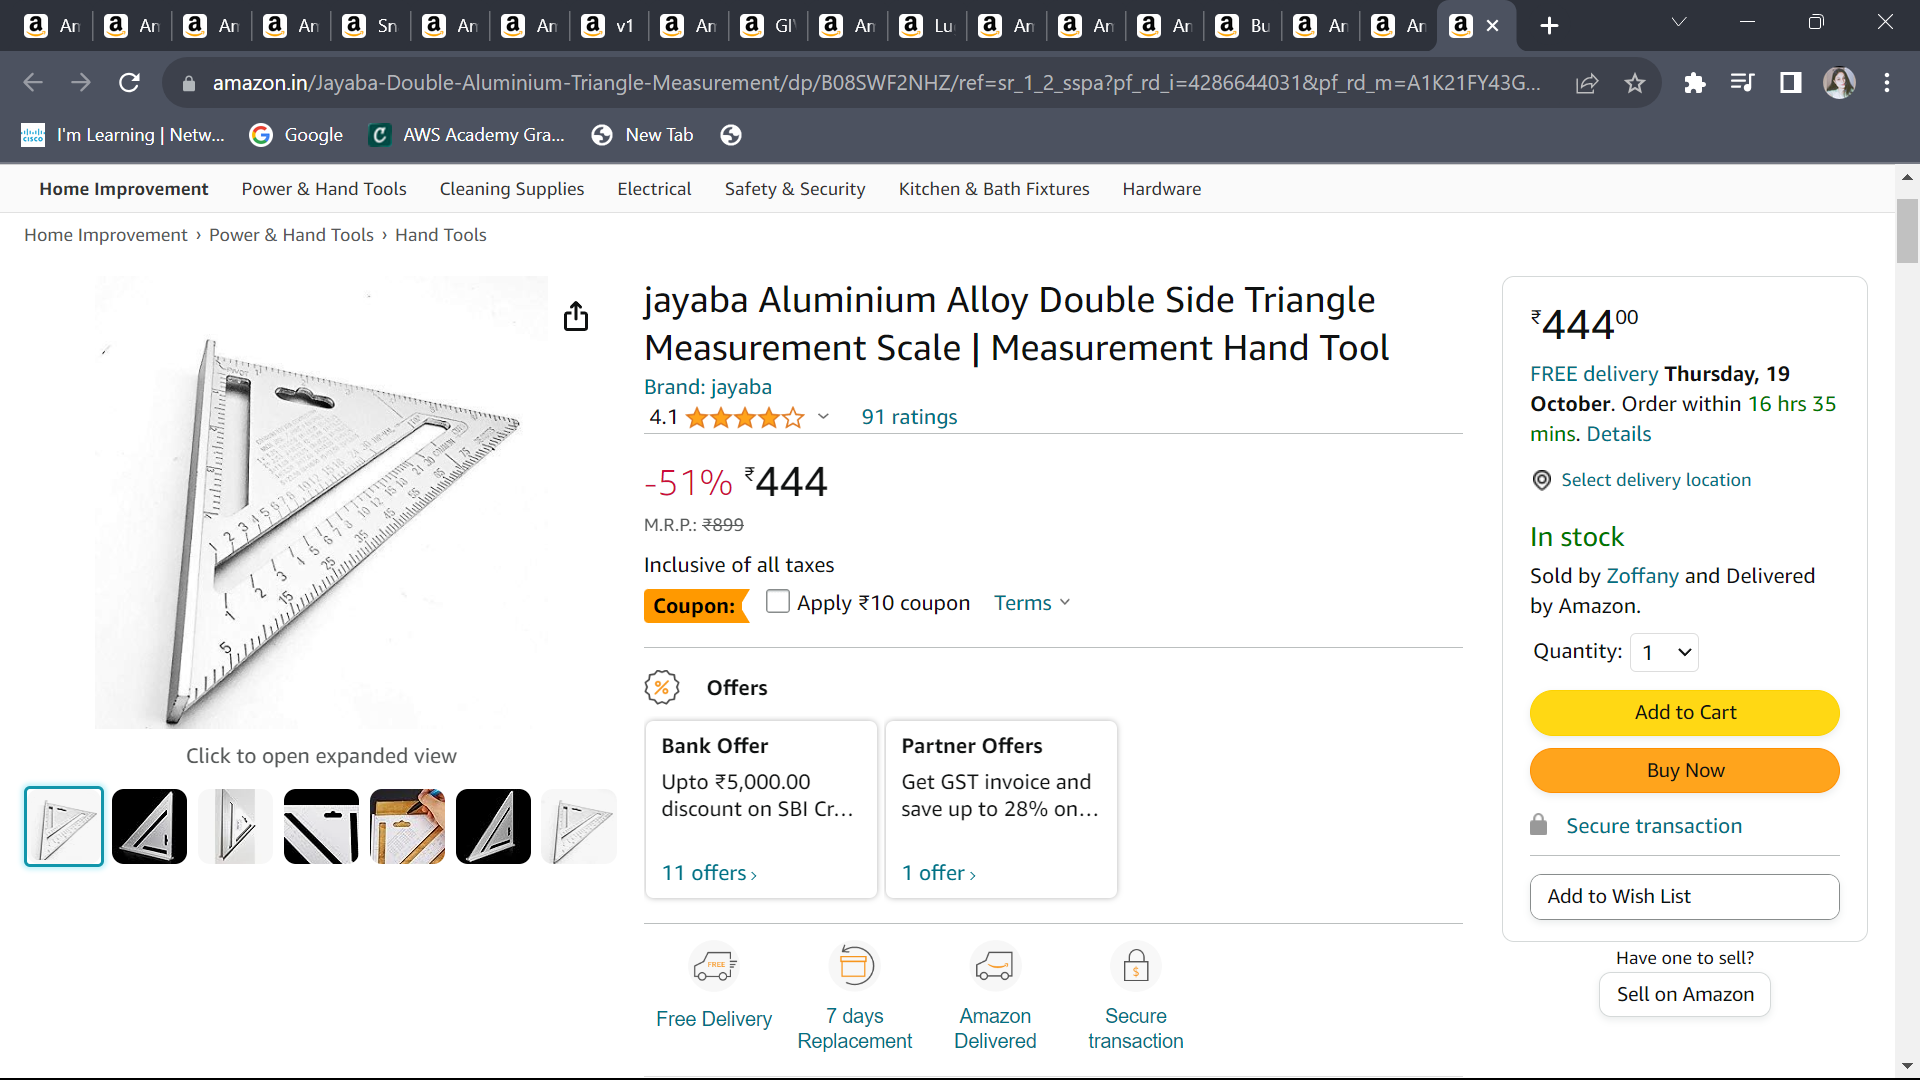Image: (116, 262, 529, 735)
Paragraph: (603, 663, 1233, 923), (603, 262, 1427, 361), (1499, 335, 1851, 460), (603, 460, 938, 585), (1505, 690, 1873, 794), (1505, 526, 1842, 628), (645, 371, 1018, 444), (567, 585, 1141, 628), (1499, 874, 1857, 926), (1589, 947, 1797, 1030), (132, 735, 472, 782), (1520, 284, 1717, 361), (1490, 624, 1735, 684), (1520, 472, 1816, 510), (9, 224, 531, 245), (1509, 803, 1795, 839)
